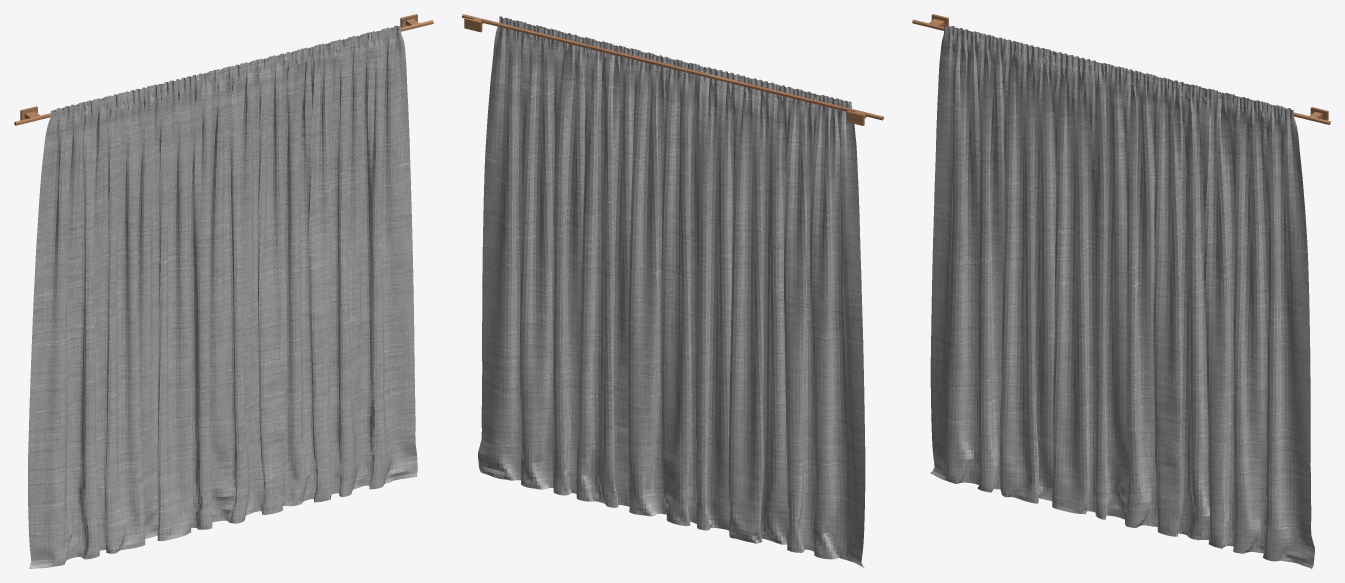
Rendered from salotto_tende2.fbx.
3 views of the same model, side by side, from view 1: azimuth 30°, elevation 25°; view 2: azimuth 150°, elevation 25°; view 3: azimuth 330°, elevation 25° (orthographic).
Visible parts, largest first — view 1: Curtain with eyelets N290622.001; view 2: Curtain with eyelets N290622.001; view 3: Curtain with eyelets N290622.001.
Boxes of the visible parts, x1,y1,x2,y2 form: Curtain with eyelets N290622.001: [14, 14, 433, 568]; Curtain with eyelets N290622.001: [462, 14, 883, 567]; Curtain with eyelets N290622.001: [912, 14, 1330, 568].
Size of the model in its own units: 244 by 255 by 11.7.
